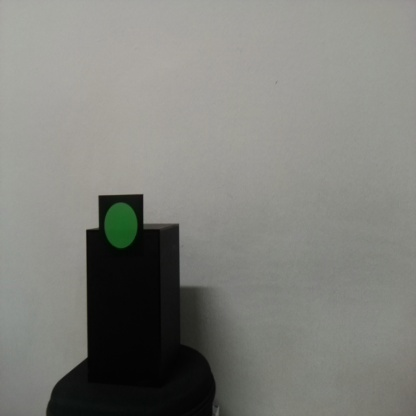id_5: (98, 195, 144, 261)
